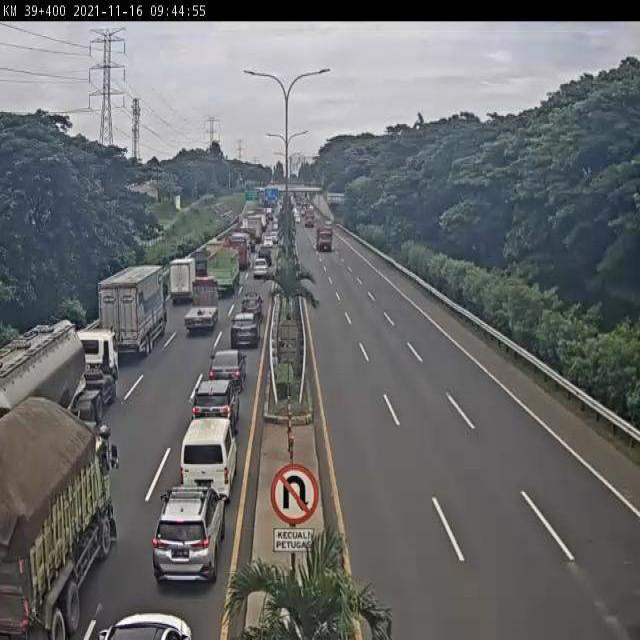car: (152, 488, 224, 584), (188, 382, 236, 446), (205, 355, 242, 397), (227, 313, 259, 352), (235, 298, 262, 330), (250, 258, 271, 286)
small bus: (180, 419, 235, 500)
truck-l-: (0, 398, 118, 638), (98, 264, 165, 361), (206, 248, 242, 300)
truck-m-: (184, 278, 219, 334), (166, 256, 197, 304)
truck-xl-: (0, 320, 118, 459)
